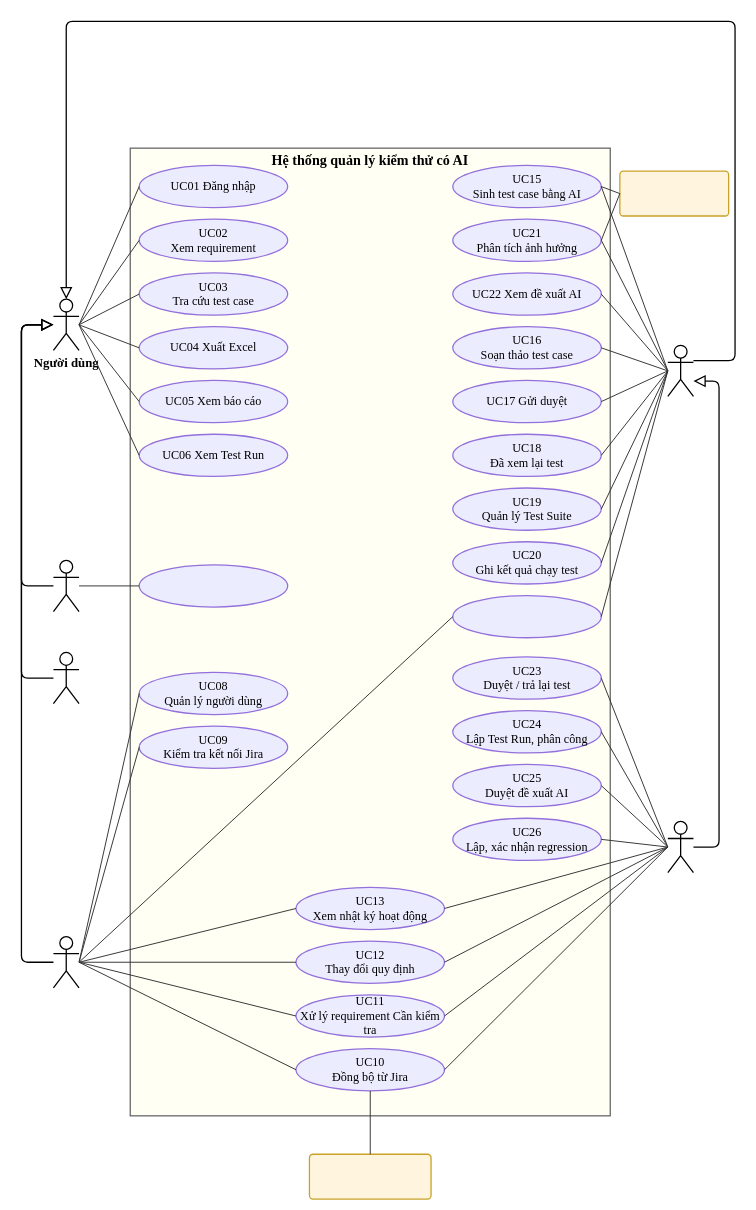
Image size: 756x1210. Some labels were removed from this diagram. The centre of each missing label's shape, as x and y in pixels:
"Admin" belongs at point (65, 962).
"Developer" belongs at point (65, 585).
"PO / BA" belongs at point (65, 678).
"QA Lead" belongs at point (680, 846).
"Tester" belongs at point (680, 370).
"UC07 Báo đã sửa lỗi" belongs at point (213, 585).
"UC14 Xem nhật ký AI" belongs at point (527, 616).
"«hệ thống ngoài» Dịch vụ LLM" belongs at point (674, 193).
"«hệ thống ngoài» Jira Cloud" belongs at point (369, 1176).
